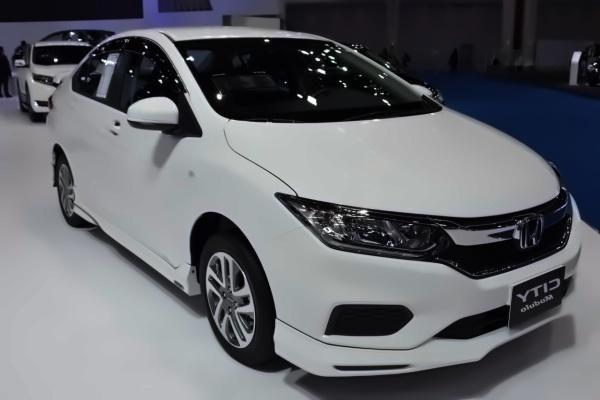Car hood: (217, 104, 567, 216)
Driver-s door - -F-R-: (104, 28, 204, 301)
Fender - -F-R-: (185, 98, 302, 304)
Fender - -R-R-: (44, 56, 73, 197)
Front bumper: (258, 199, 589, 380)
Headlight - -R-: (273, 190, 452, 265)
Passenger-s door - -R-R-: (61, 18, 133, 254)
Side bumper - -R-: (68, 188, 204, 320)
Side mirror - -R-: (128, 93, 198, 142)
